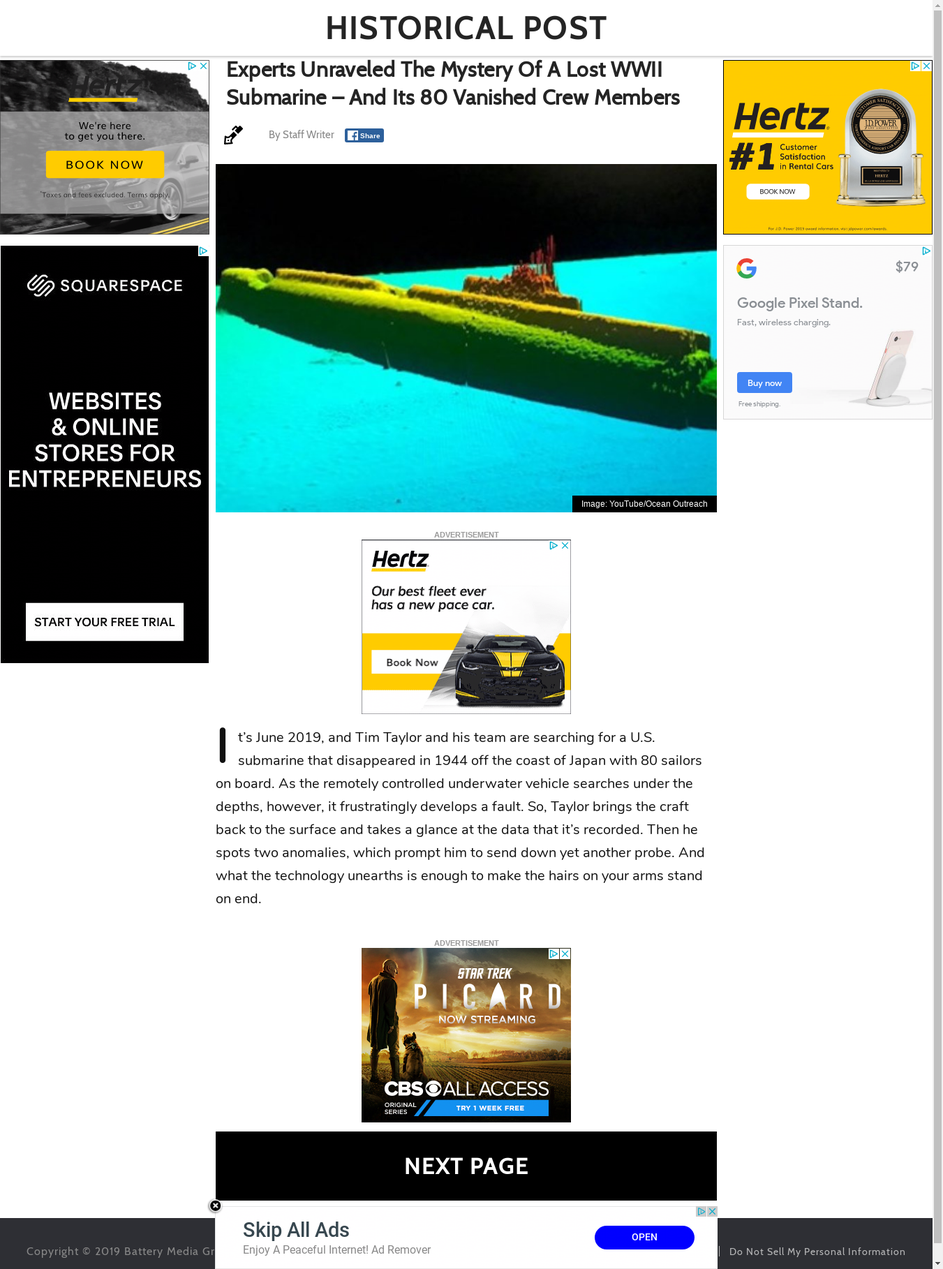fake_button: (579, 1204, 708, 1267), (722, 356, 810, 400)
